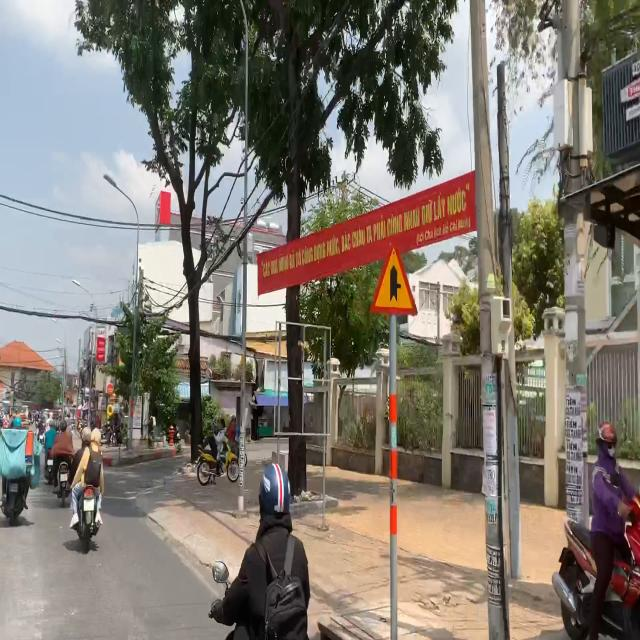Giao voi duong khong uu tien: (366, 241, 421, 322)
